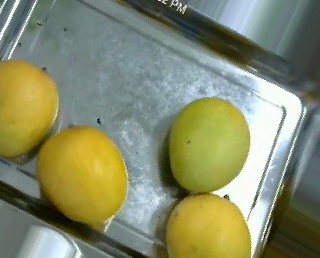Mango: (36, 127, 130, 226), (165, 97, 245, 192), (0, 58, 59, 159), (165, 193, 253, 256)
